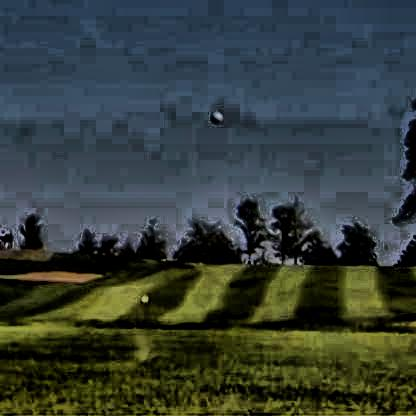golfball: (206, 108, 220, 121)
